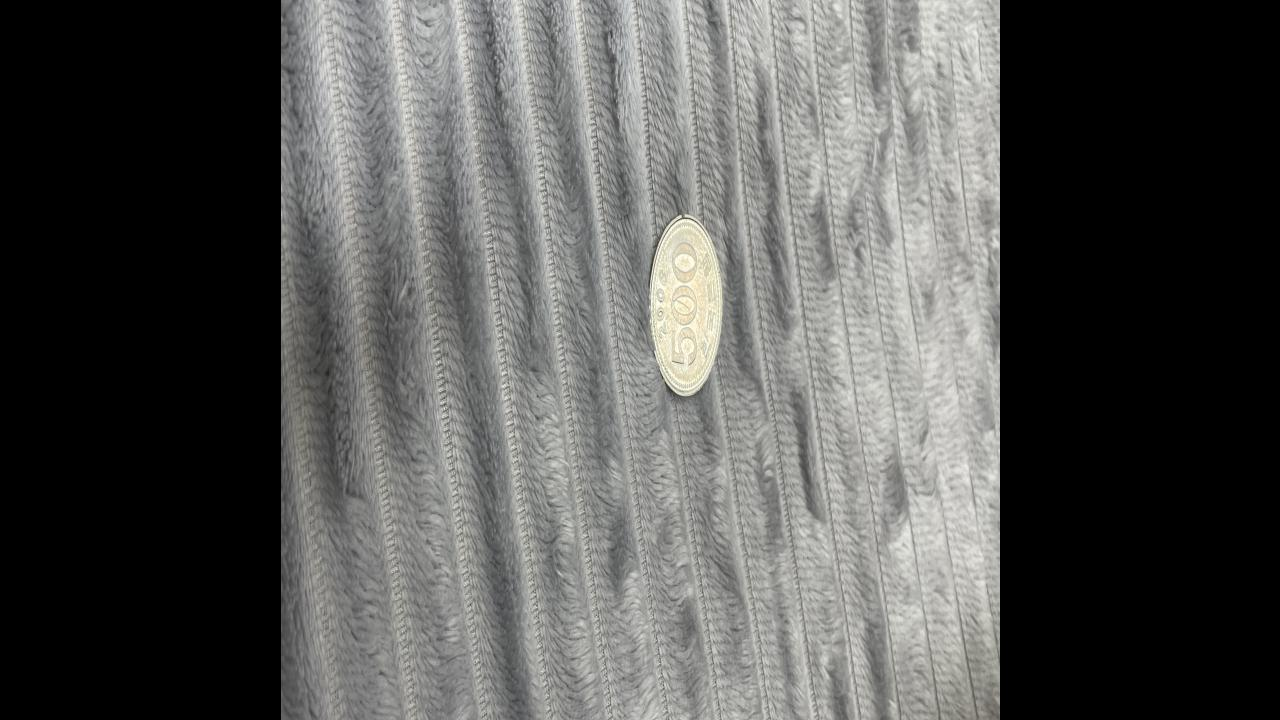coin: (646, 216, 722, 402)
